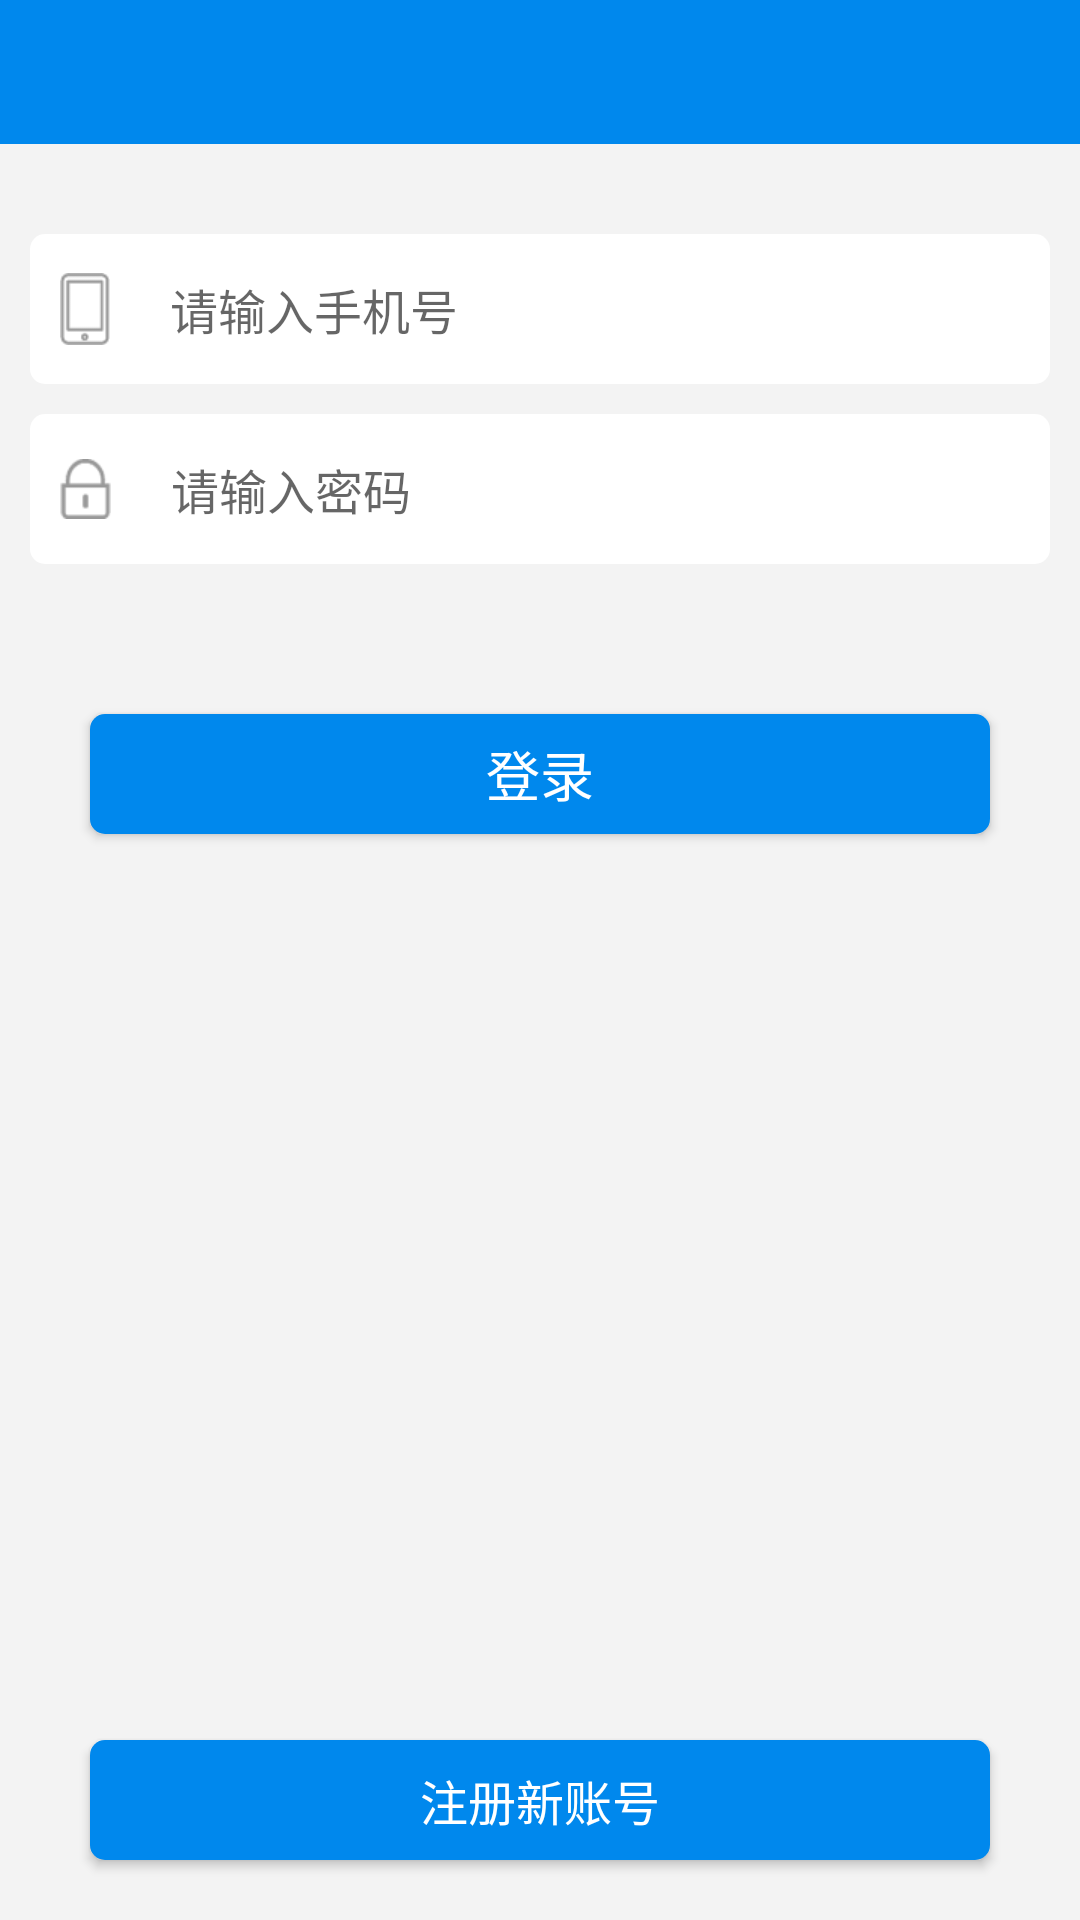

Named icons in this screenshot (1080w x 1920h) and their centers, (x=x, y=y):
password: (x=85, y=489)
phone: (x=85, y=309)
